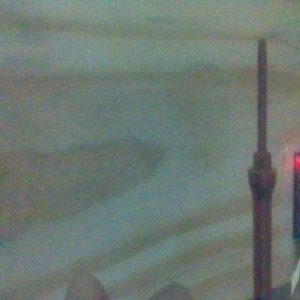obeng: (248, 37, 278, 300)
